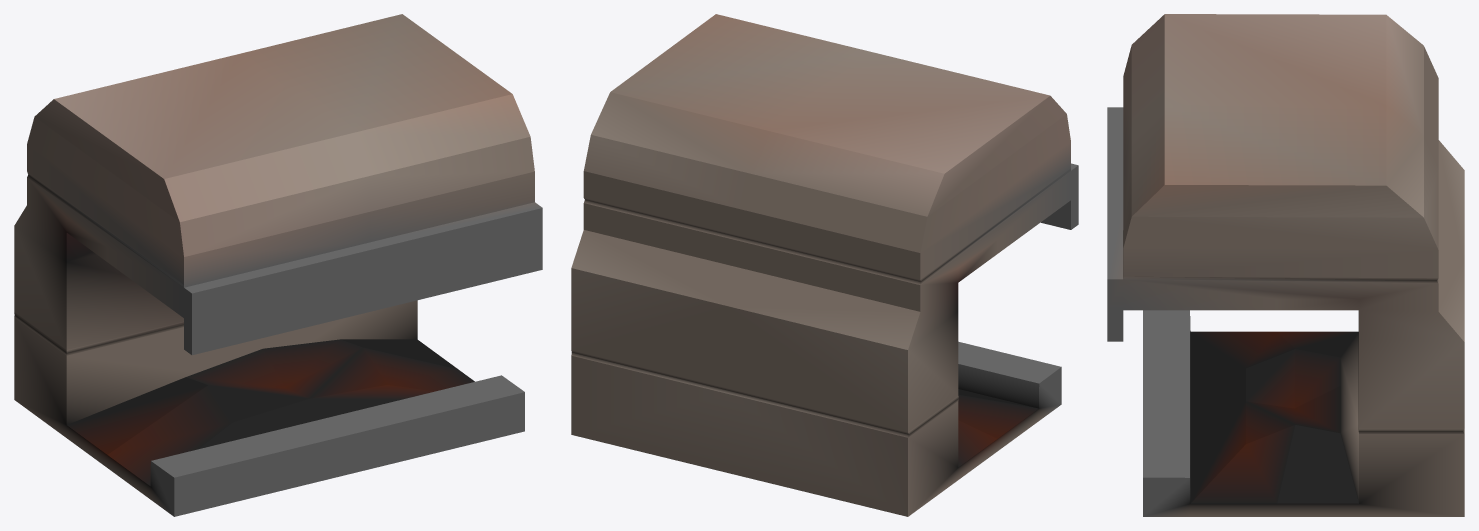
Rendered from FurnaceBaseCenter.fbx.
3 views of the same model, side by side, from view 1: azimuth 30°, elevation 25°; view 2: azimuth 150°, elevation 25°; view 3: azimuth 270°, elevation 25° (orthographic). The views are drawn at different scales.
Visible parts, largest first — view 1: FurnaceCenter; view 2: FurnaceCenter; view 3: FurnaceCenter.
Part boxes in pixels (x1,y1,x2,y2): FurnaceCenter: (14,14,542,516); FurnaceCenter: (571,14,1078,516); FurnaceCenter: (1107,14,1464,516).
Size of the model in its own units: 99.97 by 89.62 by 87.58.
